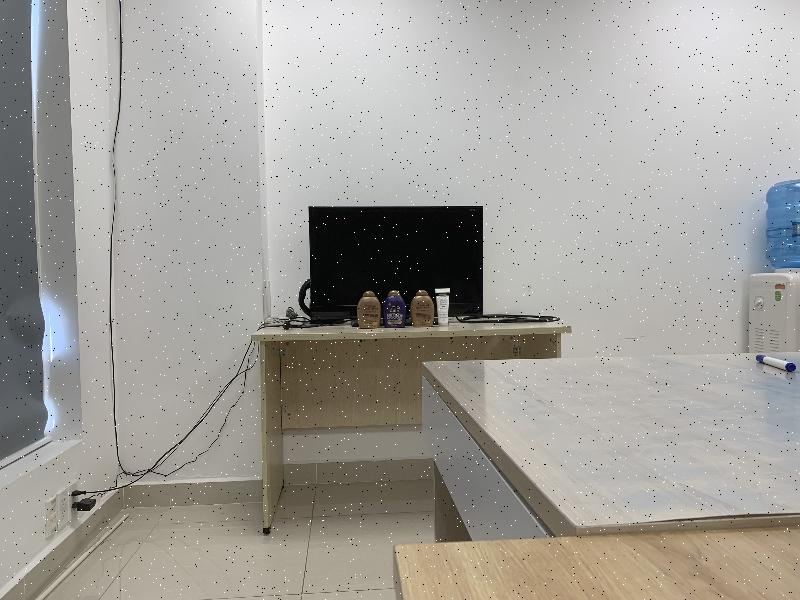BiotinCollagen_Shampoo: (383, 290, 406, 328)
BrazilianKeratinTherapy_Shampoo: (357, 291, 381, 329)
BrazilianKerationTherapy_Conditioner: (411, 290, 434, 327)
HydratingFoamingCleanser: (436, 289, 450, 326)
